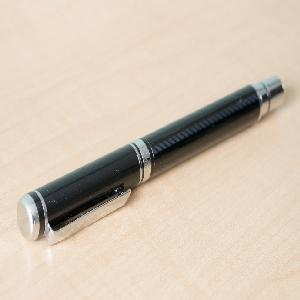pen: (14, 73, 292, 242)
